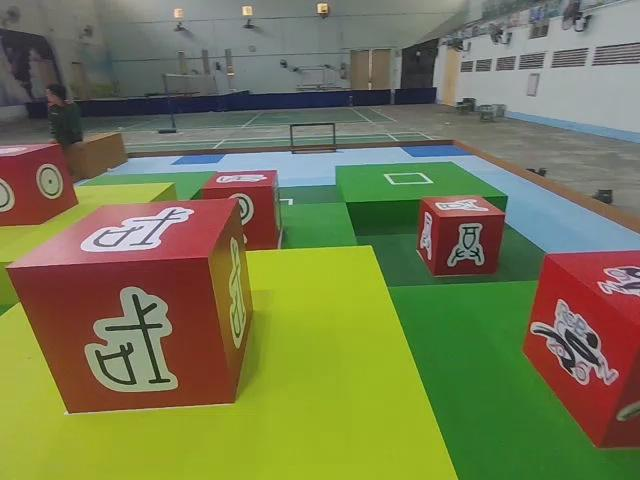R1: (525, 247, 640, 448)
R2 Real: (5, 196, 256, 415), (415, 193, 508, 279), (0, 138, 86, 227)
